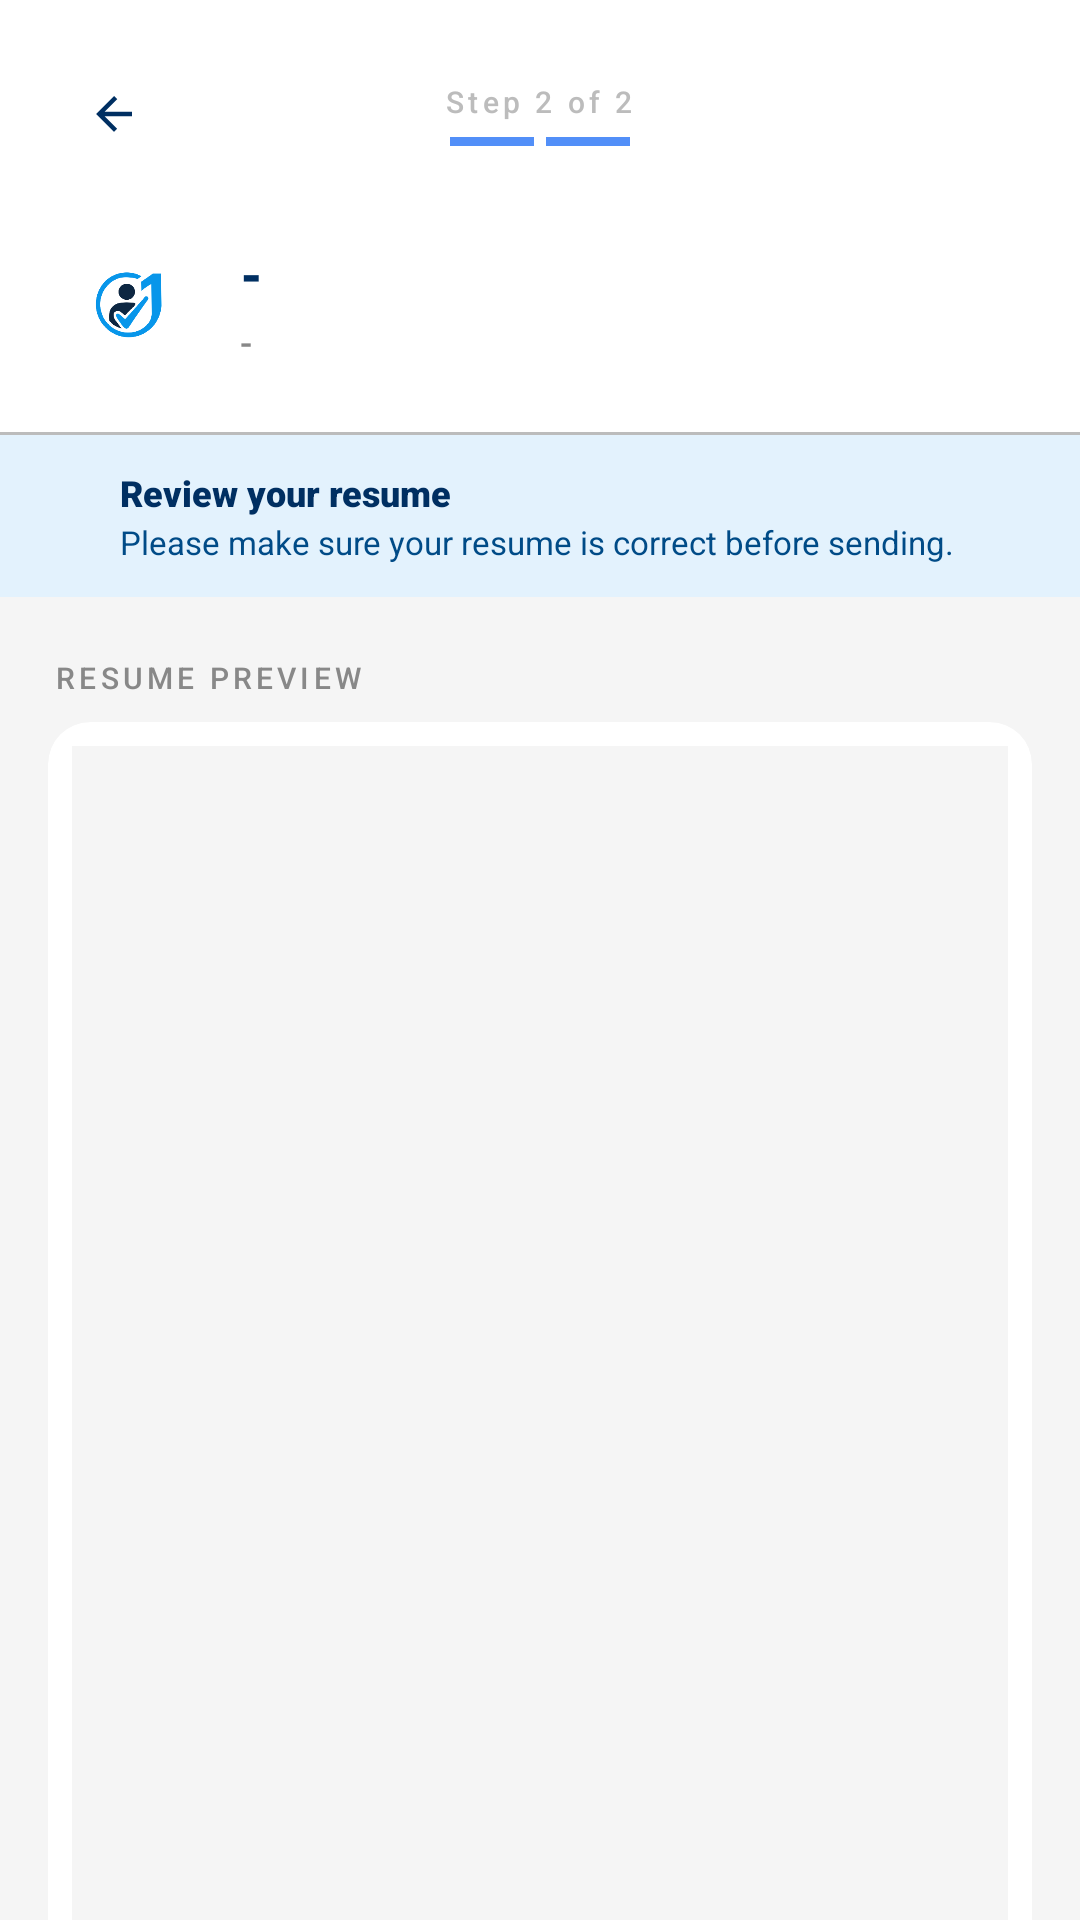

Icons on this 1080px x 1920px Android screen, each with the point to tap as point (x, y):
arrow back: point (114, 114)
